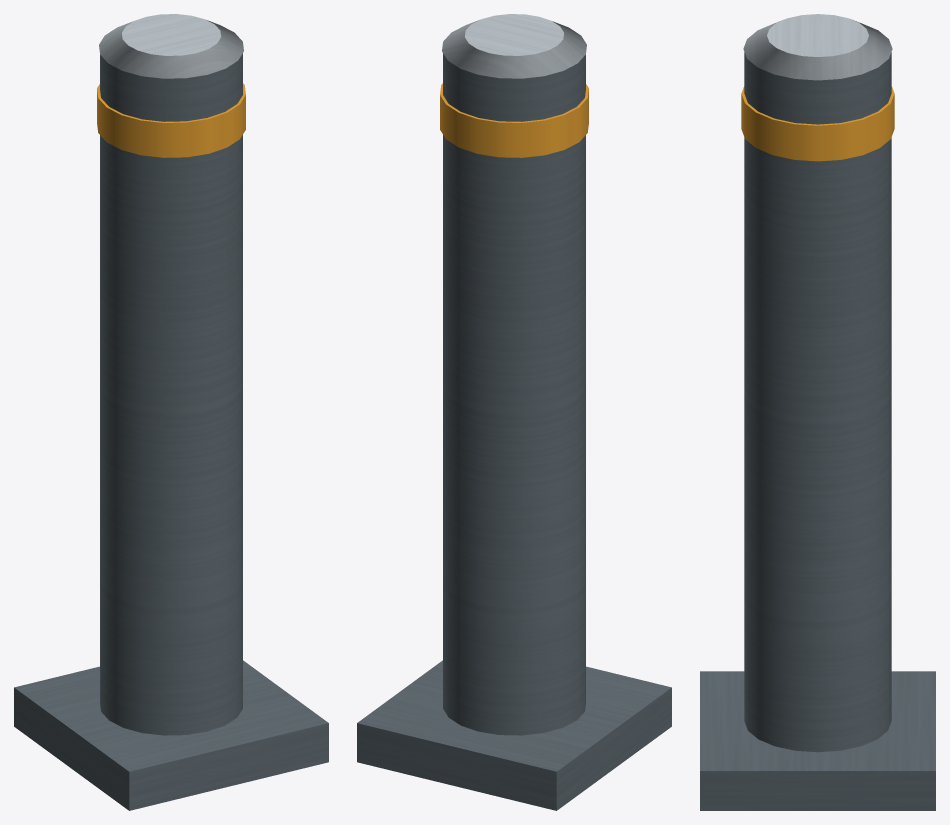
Rendered from bollard.glb.
The picture shows the model from 3 angles, left to right: view 1: azimuth 30°, elevation 25°; view 2: azimuth 150°, elevation 25°; view 3: azimuth 270°, elevation 25°; orthographic projection. The views are drawn at different scales.
Parts seen in each view (by area): view 1: bollard; view 2: bollard; view 3: bollard.
Part boxes in pixels (box(x1,y1,x2,y2)): bollard: box(14, 14, 328, 810); bollard: box(357, 14, 671, 810); bollard: box(700, 14, 935, 810).
Bounding box in the file's own units: 0.24 × 0.815 × 0.24.
Materials: 3 (3 with a texture image).
